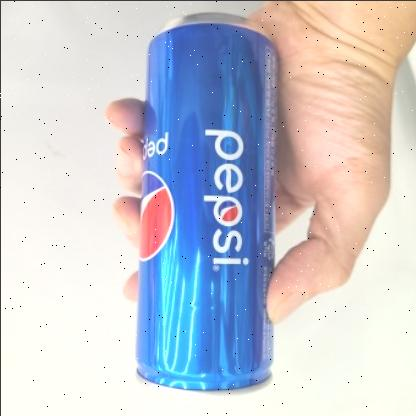Can: (134, 13, 280, 398)
